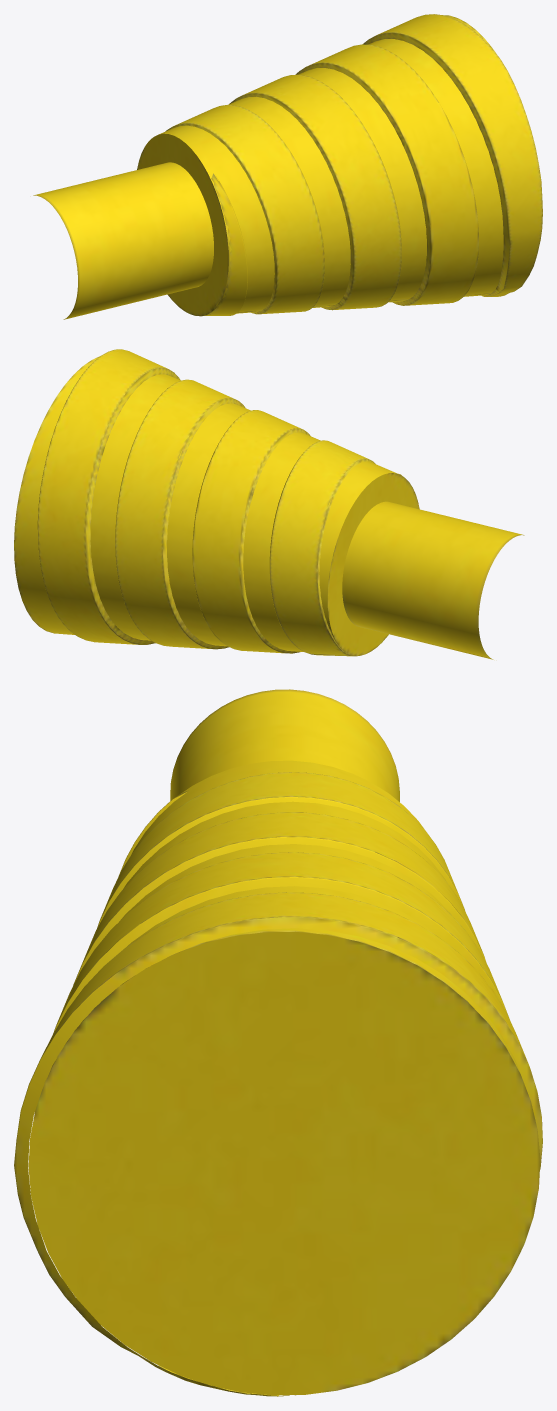
File: twistIt.glb
The picture shows the model from 3 angles, top to bottom: view 1: azimuth 30°, elevation 25°; view 2: azimuth 150°, elevation 25°; view 3: azimuth 270°, elevation 25°; orthographic projection. The views are drawn at different scales.
Parts seen in each view (by area): view 1: twistIt; view 2: twistIt; view 3: twistIt.
Part boxes in pixels (x1=…): twistIt: x1=33, y1=14, x2=542, y2=319; twistIt: x1=14, y1=349, x2=524, y2=659; twistIt: x1=14, y1=689, x2=542, y2=1396.
Size of the model in its own units: 0.3536 by 0.2103 by 0.2131.
1 material, 1 textured.
